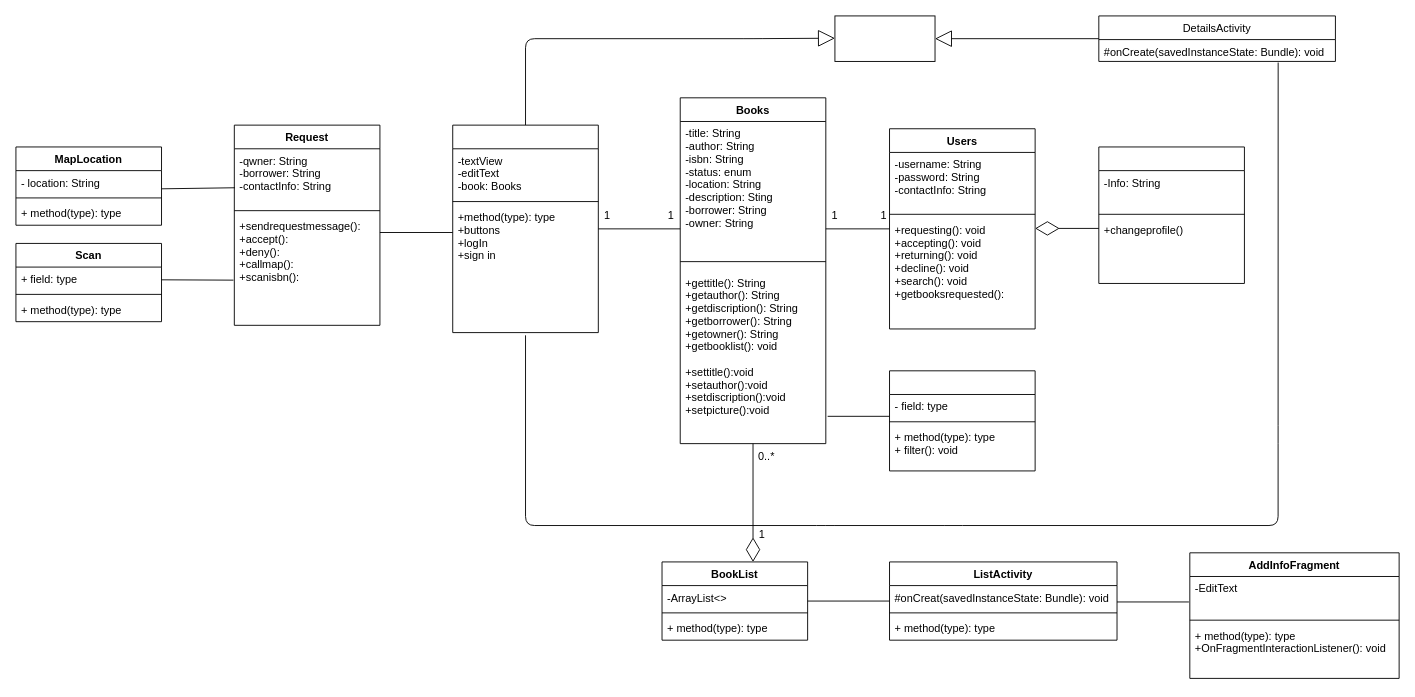
The diagram is 1415 pixels wide and 697 high, and some of its shapes have lost their labels. Here are the shapes that lost their labels. From the top down, the box of each, then its label:
(834, 15, 935, 61): AppCompatActivity
(452, 124, 598, 333): MainActivity
(1098, 146, 1244, 283): Me
(889, 370, 1035, 471): SearchBooks
